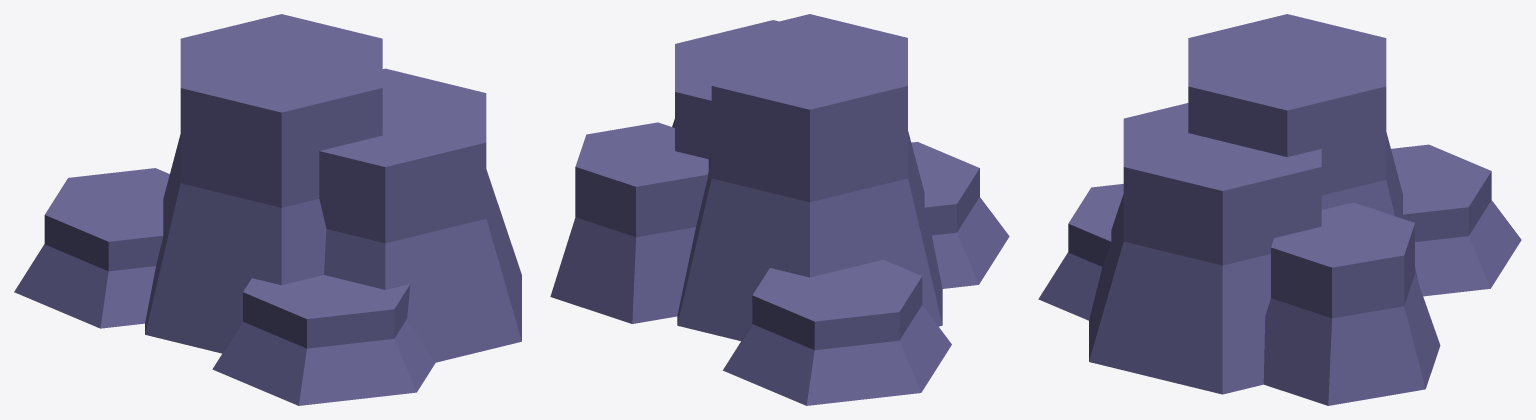
The model's file is rock-1.glb.
3 renders of one model, left to right at view 1: azimuth 30°, elevation 25°; view 2: azimuth 150°, elevation 25°; view 3: azimuth 270°, elevation 25°, orthographic. The views are drawn at different scales.
Visible parts, largest first — view 1: rock_largeB; view 2: rock_largeB; view 3: rock_largeB.
Part boxes in pixels (<box>): rock_largeB: <box>14,14,521,405</box>; rock_largeB: <box>550,14,1009,405</box>; rock_largeB: <box>1038,14,1521,405</box>.
Bounding box in the file's own units: 0.9278 × 0.5 × 0.9393.
